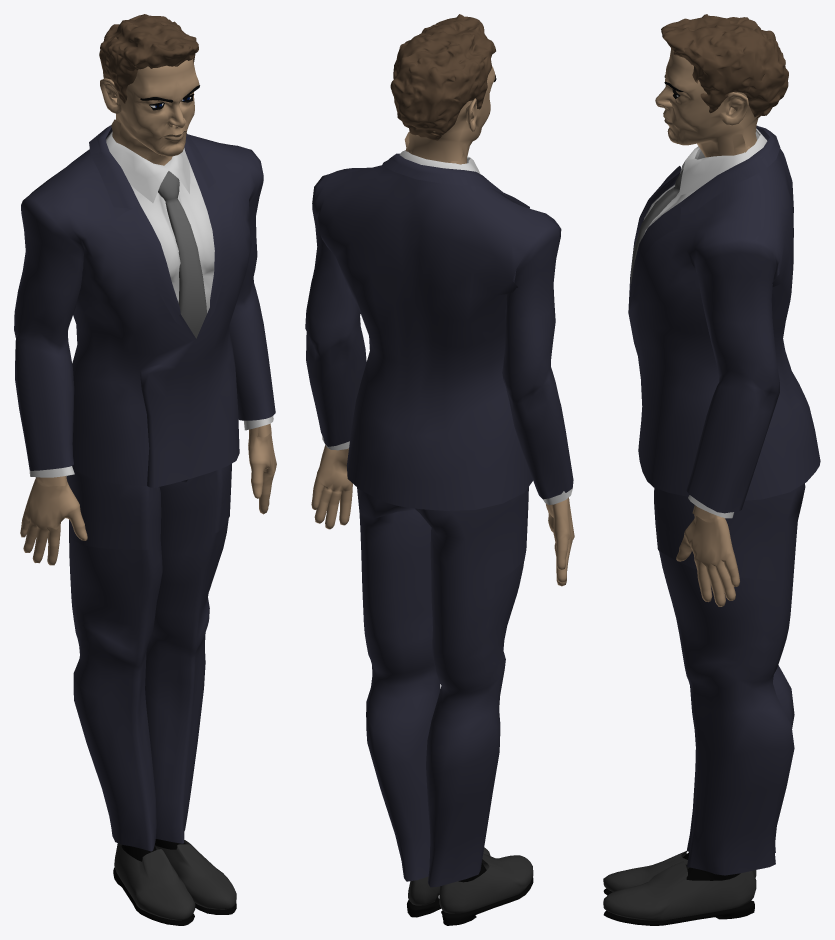
Rendered from male04.obj.
The picture shows the model from 3 angles, left to right: view 1: azimuth 30°, elevation 25°; view 2: azimuth 150°, elevation 25°; view 3: azimuth 270°, elevation 25°; orthographic projection. The views are drawn at different scales.
Parts seen in each view (by area): view 1: male_male_suit_12, male_male_skin_1, male_male_shirt_11, male_male_shoe_leather_10, male_male_hair_Chris_9, male_male_tie_13, male_male_shadeless_black_2; view 2: male_male_suit_12, male_male_hair_Chris_9, male_male_skin_1, male_male_shoe_leather_10, male_male_shadeless_black_2, male_male_shirt_11; view 3: male_male_suit_12, male_male_skin_1, male_male_hair_Chris_9, male_male_shoe_leather_10, male_male_shirt_11, male_male_shadeless_black_2, male_male_tie_13.
Part boxes in pixels (x1,y1,x2,y2): male_male_suit_12: (14, 125, 275, 851); male_male_skin_1: (20, 59, 276, 565); male_male_shirt_11: (29, 131, 273, 477); male_male_shoe_leather_10: (114, 839, 236, 920); male_male_hair_Chris_9: (99, 14, 198, 103); male_male_tie_13: (158, 171, 206, 338); male_male_shadeless_black_2: (113, 85, 236, 925); male_male_suit_12: (305, 153, 573, 887); male_male_hair_Chris_9: (390, 14, 495, 140); male_male_skin_1: (311, 66, 574, 586); male_male_shoe_leather_10: (408, 847, 533, 913); male_male_shadeless_black_2: (407, 75, 533, 925); male_male_shirt_11: (322, 150, 572, 504); male_male_suit_12: (628, 125, 820, 875); male_male_skin_1: (655, 48, 758, 606); male_male_hair_Chris_9: (661, 14, 788, 118); male_male_shoe_leather_10: (603, 851, 756, 920); male_male_shirt_11: (642, 128, 767, 518); male_male_shadeless_black_2: (603, 75, 754, 925); male_male_tie_13: (630, 169, 683, 285).
Bounding box in the file's own units: 55.9 × 185 × 41.3.
